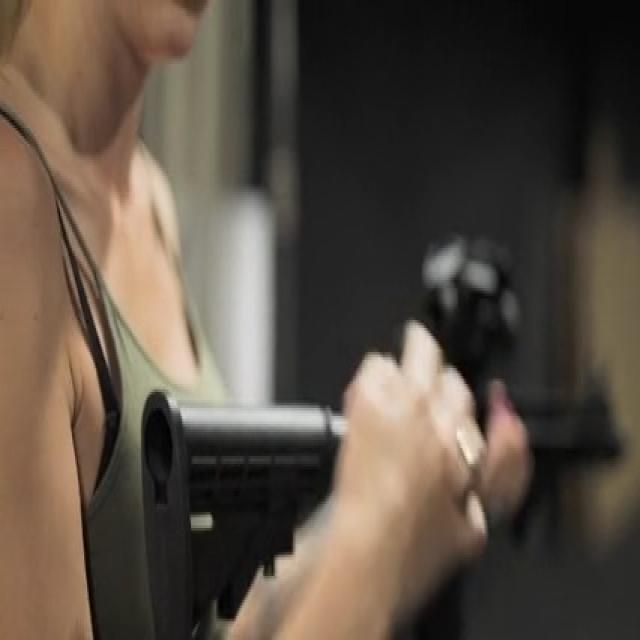Gun_Holder: (118, 199, 640, 629)
